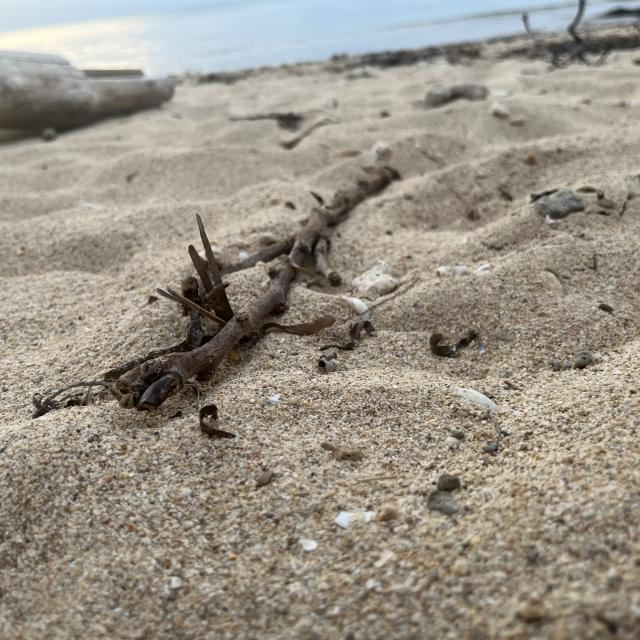stick: (103, 162, 435, 426)
